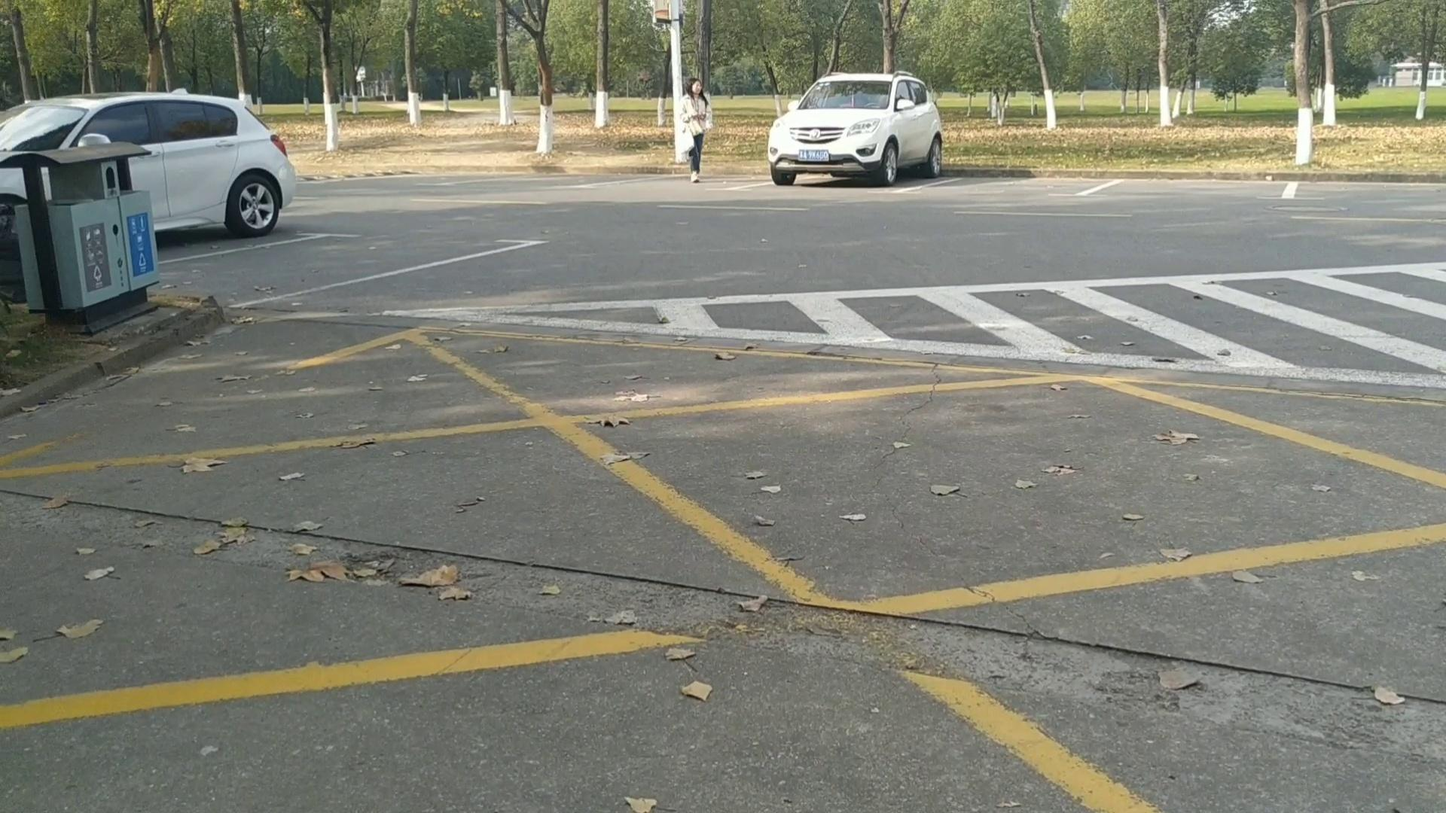car: (0, 90, 300, 238), (766, 74, 946, 187)
